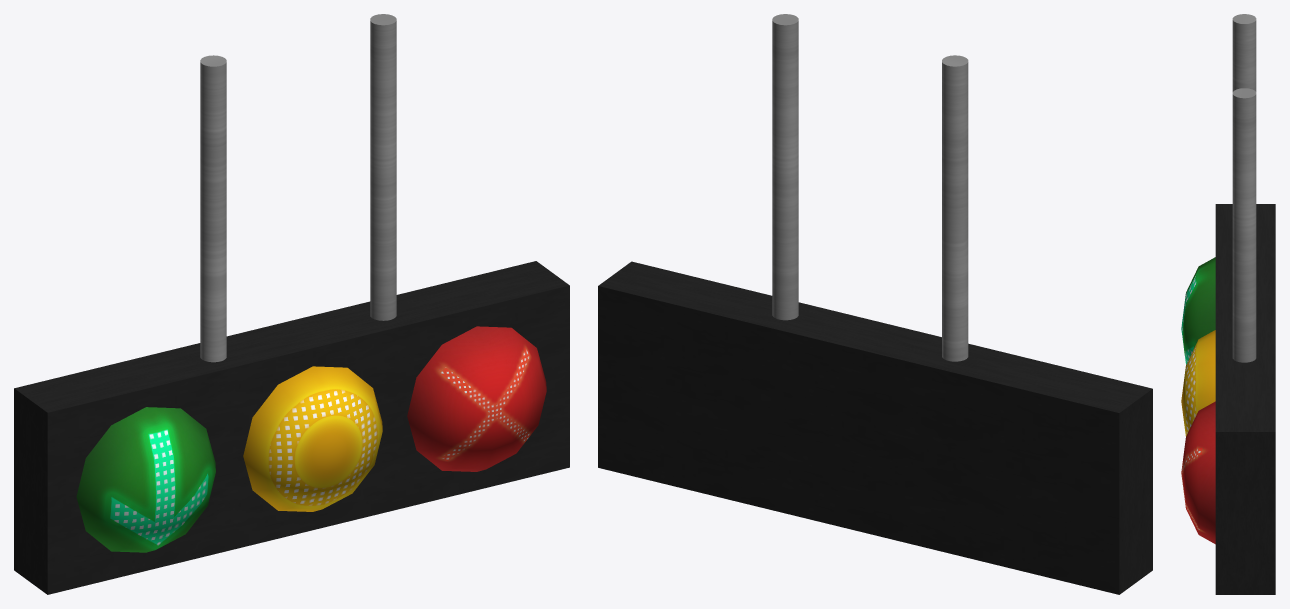
Rendered from signal.obj.
3 renders of one model, left to right at view 1: azimuth 30°, elevation 25°; view 2: azimuth 150°, elevation 25°; view 3: azimuth 270°, elevation 25°, orthographic. The views are drawn at different scales.
Visible parts, largest first — view 1: Rectangle001, Sphere002, Sphere003, Sphere001, Cylinder001, Cylinder002; view 2: Rectangle001, Cylinder001, Cylinder002; view 3: Rectangle001, Cylinder002, Sphere003, Sphere001, Sphere002, Cylinder001.
Boxes of the visible parts, <box> form: Rectangle001: <box>14,261,569,594</box>; Sphere002: <box>243,366,382,511</box>; Sphere003: <box>407,326,546,471</box>; Sphere001: <box>76,407,215,552</box>; Cylinder001: <box>200,55,226,362</box>; Cylinder002: <box>370,14,396,320</box>; Rectangle001: <box>598,261,1152,594</box>; Cylinder001: <box>942,55,968,361</box>; Cylinder002: <box>772,14,798,320</box>; Rectangle001: <box>1215,204,1275,594</box>; Cylinder002: <box>1232,88,1256,362</box>; Sphere003: <box>1181,401,1215,544</box>; Sphere001: <box>1181,257,1215,364</box>; Sphere002: <box>1181,330,1215,436</box>; Cylinder001: <box>1232,14,1256,91</box>.
Bounding box in the file's own units: 0.9 × 0.7868 × 0.1576.
